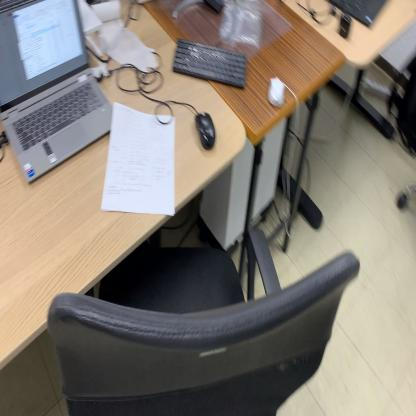chair: (46, 225, 361, 416)
